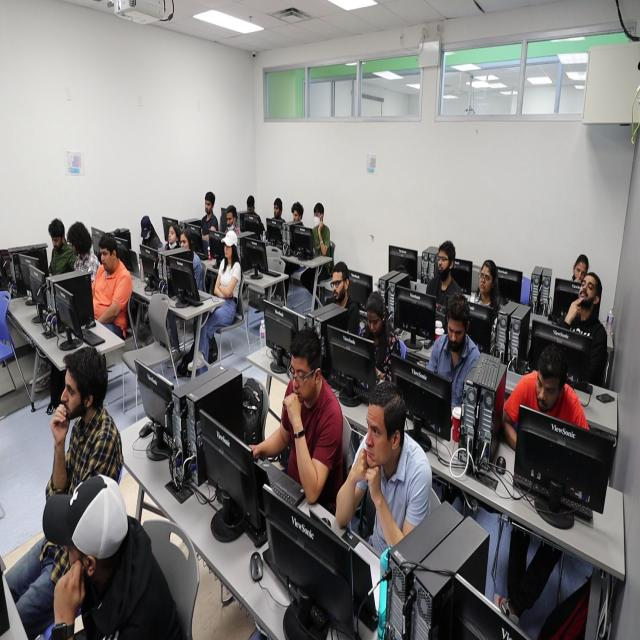Attentive: (365, 401, 389, 465), (61, 366, 82, 417), (579, 274, 596, 306), (478, 263, 492, 295), (331, 269, 344, 303), (437, 249, 451, 274), (574, 259, 587, 283), (100, 246, 110, 272), (226, 212, 236, 230), (180, 233, 190, 251), (224, 243, 234, 260), (168, 226, 176, 243), (205, 198, 213, 214)
Distracted: (290, 353, 314, 402), (535, 369, 558, 413), (446, 317, 466, 349), (367, 309, 382, 334), (51, 234, 62, 250)
